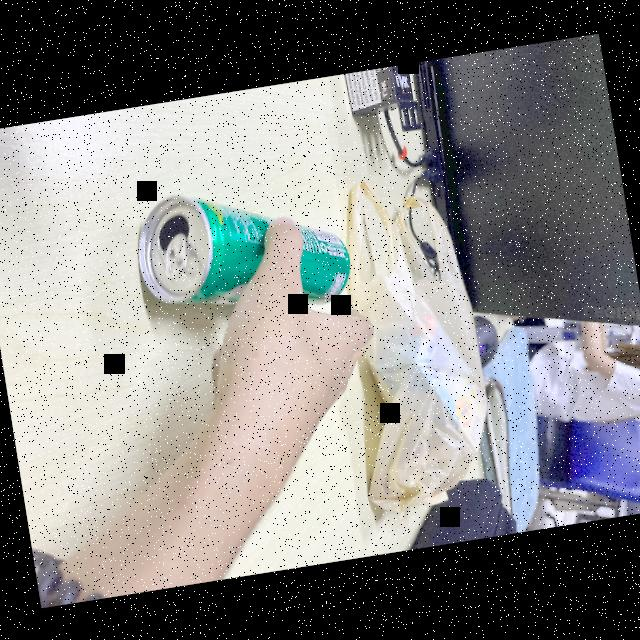can: (122, 163, 370, 336)
